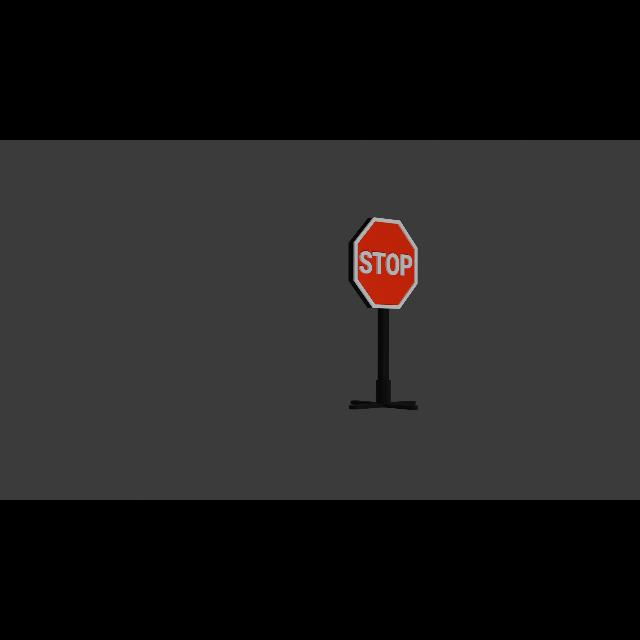sign_stop: (349, 218, 419, 311)
